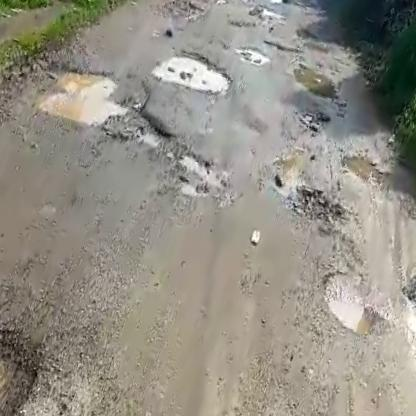pothole: (28, 49, 184, 156), (0, 300, 57, 416), (311, 266, 393, 346), (151, 38, 242, 104), (168, 149, 239, 210), (285, 180, 354, 235), (335, 143, 395, 190), (286, 61, 346, 108), (391, 271, 416, 353), (234, 40, 275, 67)
